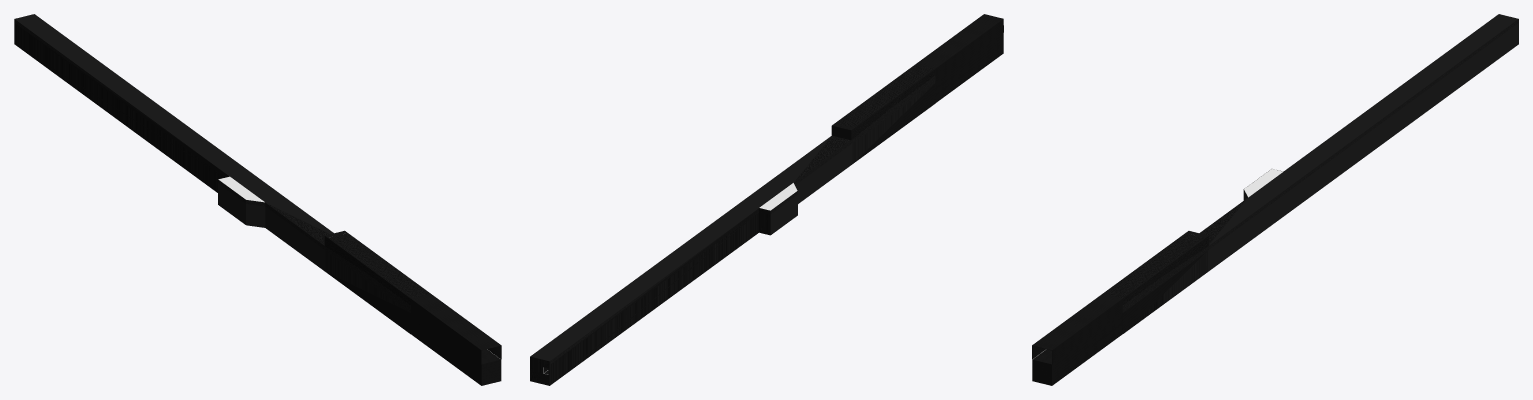
Rendered from LVL_01.FBX.
3 views of the same model, side by side, from view 1: azimuth 30°, elevation 25°; view 2: azimuth 150°, elevation 25°; view 3: azimuth 330°, elevation 25° (orthographic). The views are drawn at different scales.
Visible parts, largest first — view 1: Box01; view 2: Box01; view 3: Box01.
Boxes of the visible parts, <box> form: Box01: <box>14,14,501,385</box>; Box01: <box>530,14,1003,385</box>; Box01: <box>1032,14,1518,385</box>.
Size of the model in its own units: 937 by 999 by 23639.
